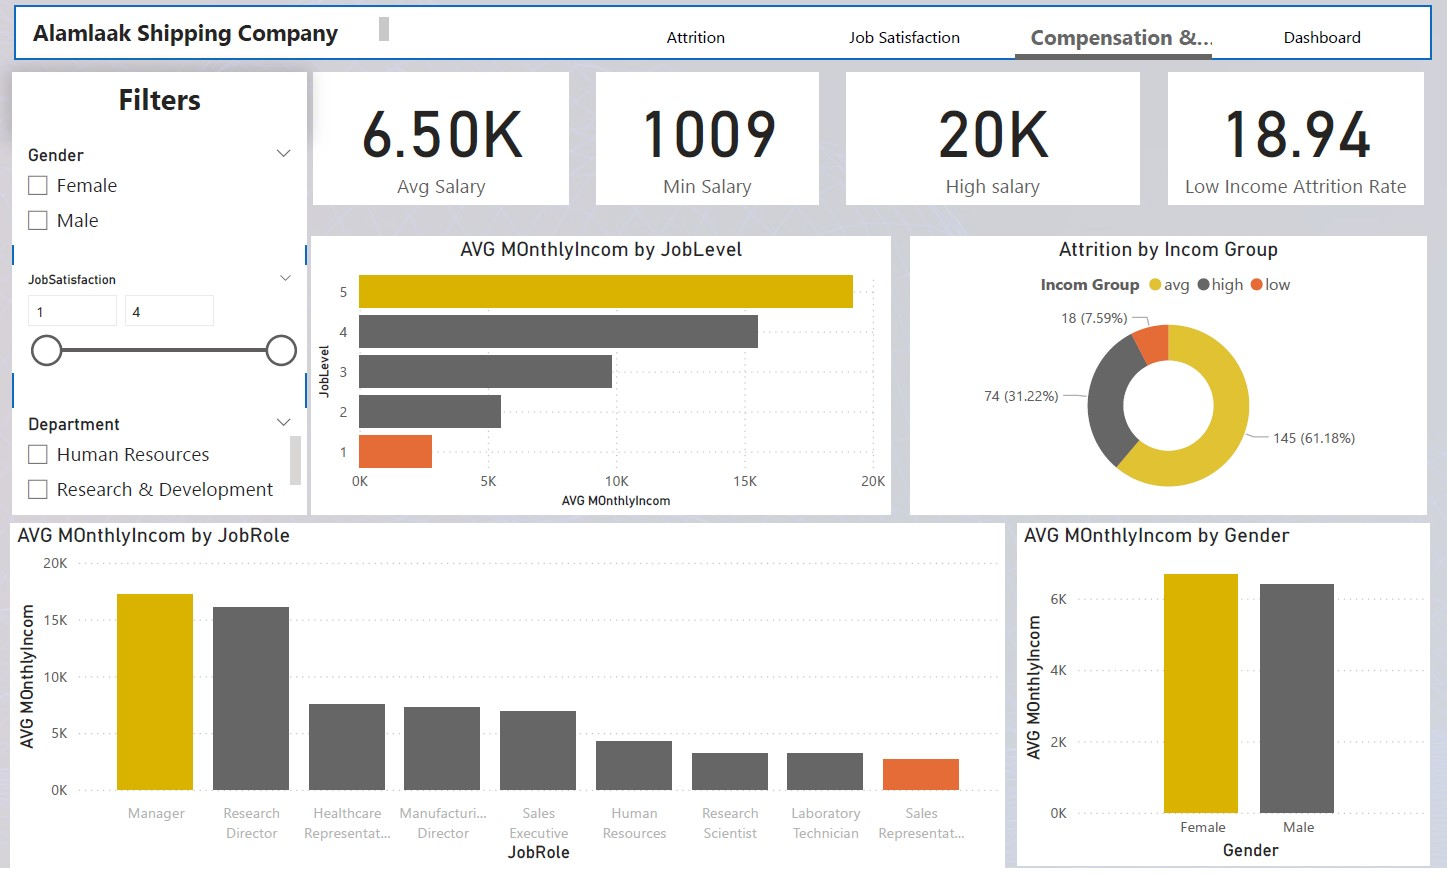

Layout of this report page (visuals, bound fields, positions):
{"tool":"powerbi","page":{"name":"  Compensation & Fairness","canvas":[1280,720],"ordinal":2},"visuals":[{"type":"shape","box":[55.7,5.9,1174.7,45.5],"z":0},{"type":"textbox","box":[65.5,11.2,305.3,35.2],"z":1000},{"type":"card","fields":{"Values":["Employees.Avg Salary"]},"box":[303.7,62.3,211,108.7],"z":2000},{"type":"card","fields":{"Values":["Employees.Min Salary"]},"box":[538.1,62.3,183.8,108.7],"z":3000},{"type":"columnChart","fields":{"Category":["Employees.JobRole"],"Y":["Employees.AVG MOnthlyIncom"]},"box":[52.7,434.8,823.2,286.1],"z":4000},{"type":"columnChart","fields":{"Category":["Employees.Gender"],"Y":["Employees.AVG MOnthlyIncom"]},"box":[887.1,434.8,340.5,284.5],"z":8000},{"type":"barChart","fields":{"Y":["Employees.AVG MOnthlyIncom"],"Category":["Employees.JobLevel"]},"box":[302.1,198.2,479.5,230.2],"z":10000},{"type":"shape","box":[53.5,61.7,244.3,366.4],"z":11000},{"type":"textbox","box":[53.5,61.7,244.3,54.9],"z":12000},{"type":"slicer","fields":{"Values":["Employees.Gender"]},"box":[53.5,116.6,244.3,87.8],"z":13000},{"type":"slicer","fields":{"Values":["Employees.Department"]},"box":[53.5,340.3,244.3,87.8],"z":14000},{"type":"slicer","fields":{"Values":["Employees.JobSatisfaction"]},"box":[53.5,222.3,244.3,87.8],"z":15000},{"type":"card","fields":{"Values":["Employees.High salary"]},"box":[745.4,62.3,243,108.7],"z":15001},{"type":"card","fields":{"Values":["Employees.Low Income Attrition Rate"]},"box":[1011.8,62.3,211,108.7],"z":15002},{"type":"donutChart","title":"Attrition by Incom Group","fields":{"Category":["Employees.Incom Group"],"Y":["CountNonNull(Employees.EmployeeCount)"]},"box":[797.6,198.2,428.4,230.2],"z":15003},{"type":"pageNavigator","box":[538.7,11.2,684.1,40],"z":15004}]}

Visuals, with their boxes on the page's 1280x720 design canvas (x1, y1, x2, y2). These are canvas units, not pixel positions in the 1447x877 screenshot, which may show the page scaled, cropped or inside an application window:
shape: 56 6 1230 51
textbox: 66 11 371 46
card - Employees.Avg Salary: 304 62 515 171
card - Employees.Min Salary: 538 62 722 171
columnChart - Employees.JobRole x Employees.AVG MOnthlyIncom: 53 435 876 721
columnChart - Employees.Gender x Employees.AVG MOnthlyIncom: 887 435 1228 719
barChart - Employees.AVG MOnthlyIncom x Employees.JobLevel: 302 198 782 428
shape: 54 62 298 428
textbox: 54 62 298 117
slicer - Employees.Gender: 54 117 298 204
slicer - Employees.Department: 54 340 298 428
slicer - Employees.JobSatisfaction: 54 222 298 310
card - Employees.High salary: 745 62 988 171
card - Employees.Low Income Attrition Rate: 1012 62 1223 171
"Attrition by Incom Group" donutChart: 798 198 1226 428
pageNavigator: 539 11 1223 51
